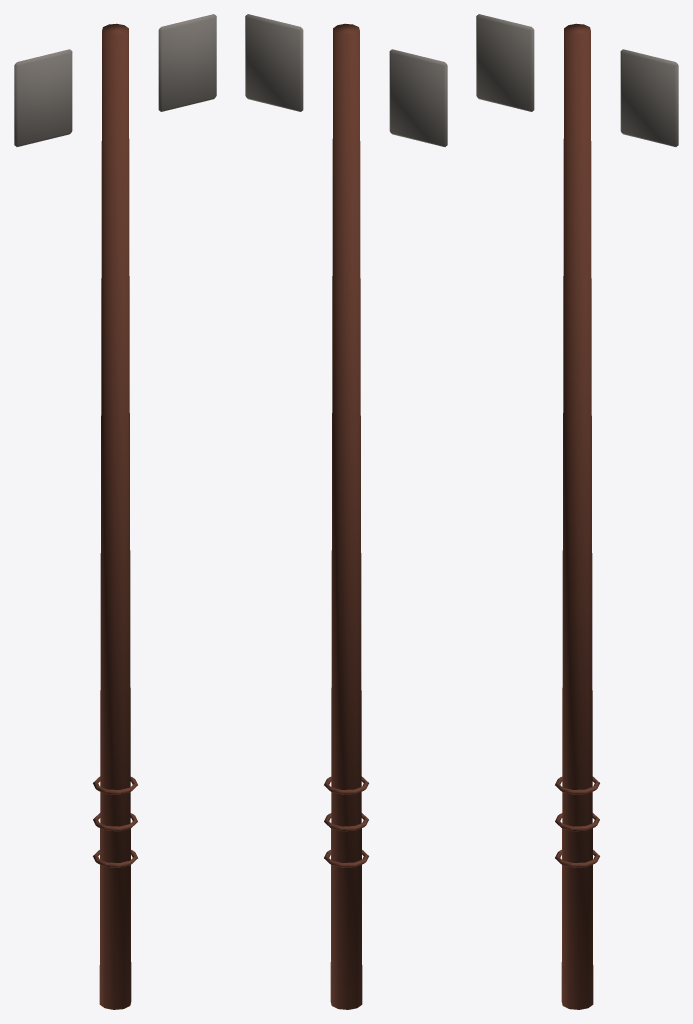
File: double_axe.glb
3 renders of one model, left to right at view 1: azimuth 30°, elevation 25°; view 2: azimuth 150°, elevation 25°; view 3: azimuth 330°, elevation 25°, orthographic.
Visible parts, largest first — view 1: double_axe; view 2: double_axe; view 3: double_axe.
Part boxes in pixels (x1=…): double_axe: x1=14, y1=14, x2=216, y2=1009; double_axe: x1=245, y1=14, x2=447, y2=1009; double_axe: x1=476, y1=14, x2=678, y2=1009.
Bounding box in the file's own units: 0.174 × 0.8 × 0.0323.
2 materials, 1 textured.
